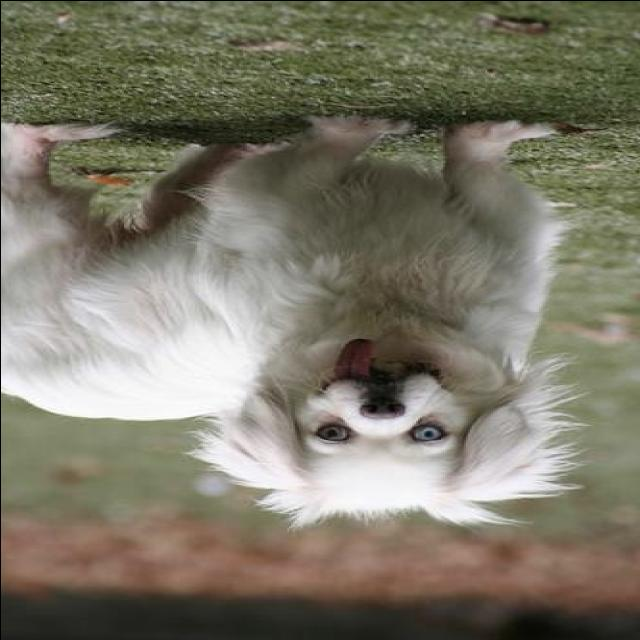pekinese: (4, 118, 598, 532)
